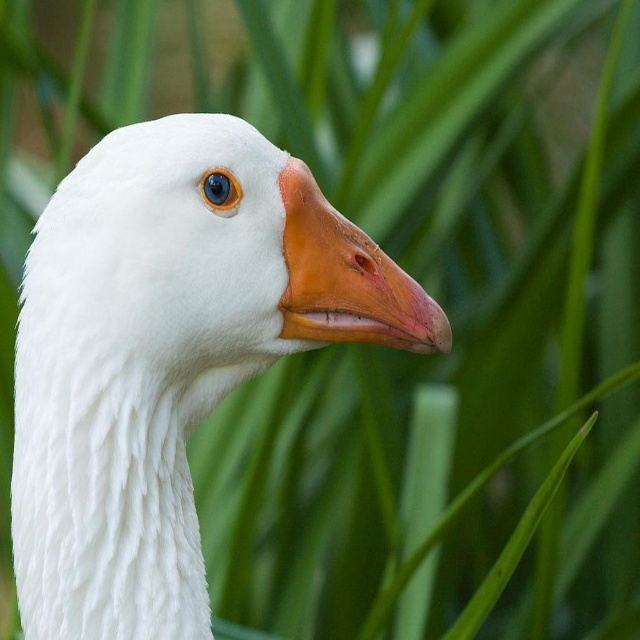Goose: (13, 115, 452, 637)
